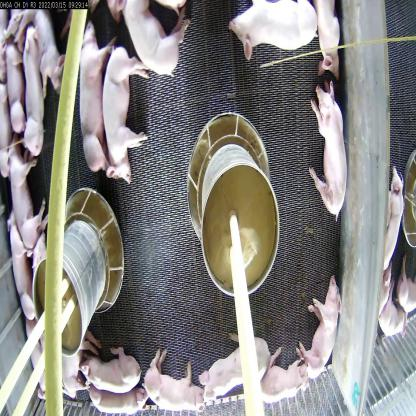Pig: (98, 41, 160, 190), (304, 76, 356, 238), (73, 21, 114, 177), (199, 324, 275, 408), (112, 0, 194, 75), (225, 0, 320, 63), (4, 133, 51, 253), (136, 342, 210, 416), (297, 268, 342, 384), (21, 1, 68, 100), (19, 26, 52, 162), (4, 209, 40, 324), (250, 342, 310, 405), (56, 320, 101, 402), (77, 342, 142, 398), (370, 268, 412, 353), (0, 37, 32, 146), (22, 315, 56, 414), (380, 158, 404, 279), (310, 0, 346, 79), (87, 382, 151, 416), (0, 78, 17, 192), (394, 251, 415, 329)
